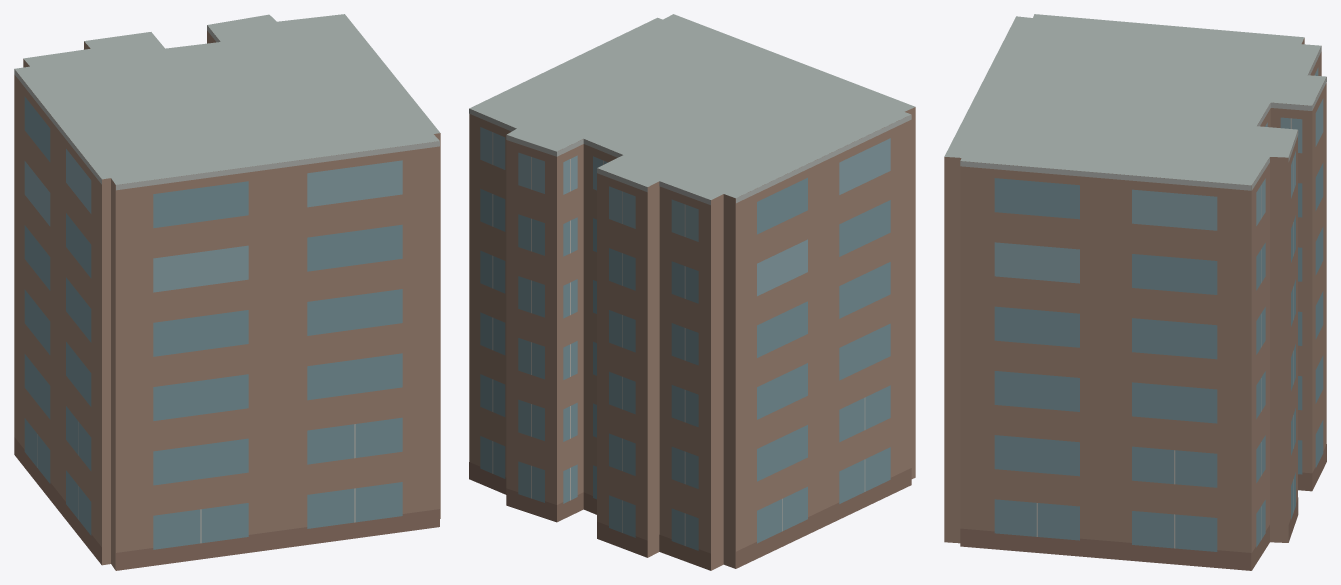
The model's file is survey-upis-32957689.glb.
3 views of the same model, side by side, from view 1: azimuth 30°, elevation 25°; view 2: azimuth 150°, elevation 25°; view 3: azimuth 270°, elevation 25° (orthographic). The views are drawn at different scales.
Visible parts, largest first — view 1: survey-upis-32957689.tmp; view 2: survey-upis-32957689.tmp; view 3: survey-upis-32957689.tmp.
Boxes of the visible parts, left/top/right/bottom form: survey-upis-32957689.tmp: left=14, top=14, right=440, bottom=570; survey-upis-32957689.tmp: left=469, top=14, right=915, bottom=570; survey-upis-32957689.tmp: left=944, top=14, right=1326, bottom=570.
Bounding box in the file's own units: 16.7 × 17.5 × 15.75.
